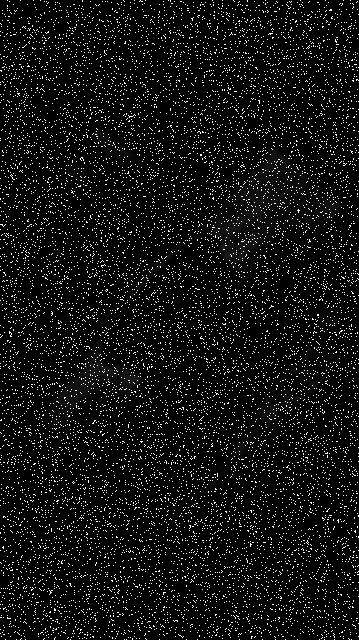pot: (99, 235, 268, 406)
